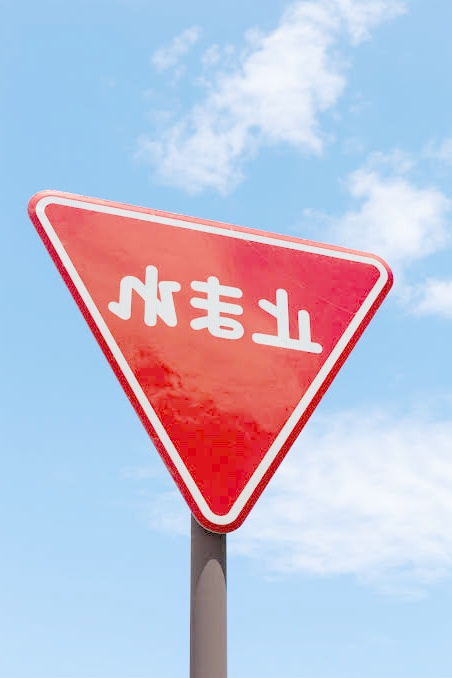Regulatory_sign_triangle: (12, 161, 395, 539)
